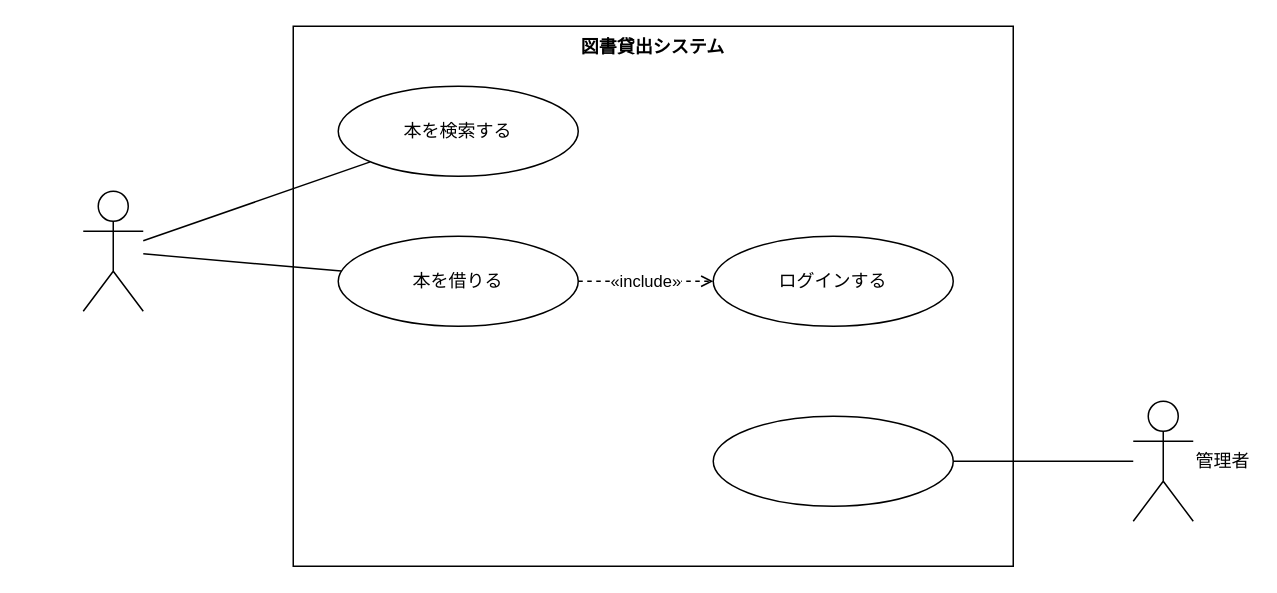
Image size: 1277x593. Some labels were removed from this diagram. Each missing label, with the box of its shape:
利用者: (82, 190, 143, 311)
本を登録する: (712, 415, 953, 506)
